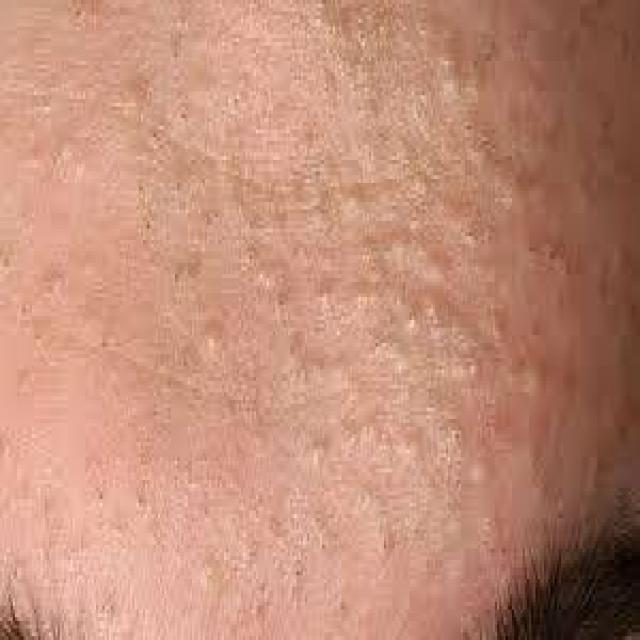dark spot: (224, 506, 418, 640), (79, 430, 175, 560), (0, 232, 47, 400), (512, 210, 587, 304), (269, 267, 320, 392), (132, 160, 166, 278)
